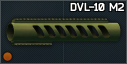DVL-10 M2 handguard: (0, 0, 127, 64)
